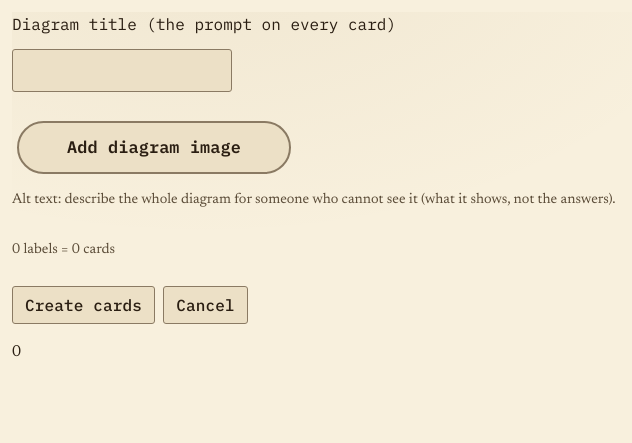
Scenario: DiagramEditor › creates a new diagram from scratch only once it has a title, an image and a labelled region
Click the button with test id "diagram-save".
click(84, 305)  # box top-left (12, 286), bottom-right (155, 324)
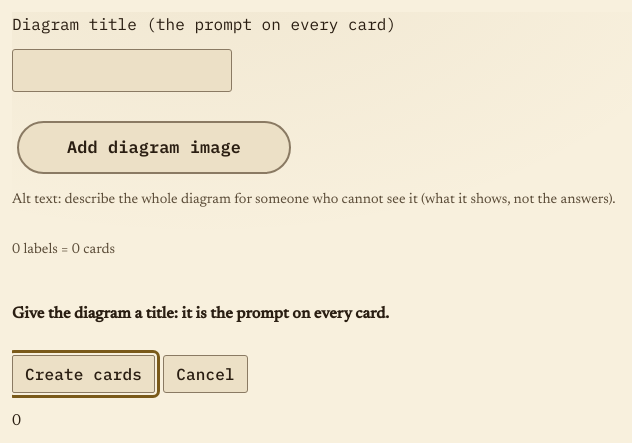
Result: the message shows "title" at top-left (12, 306), bottom-right (389, 322)
Type "Skull" into the field labelled "Diagram title (the prompt on every card)".
click(122, 70); type("Skull")  # box top-left (12, 49), bottom-right (232, 92)
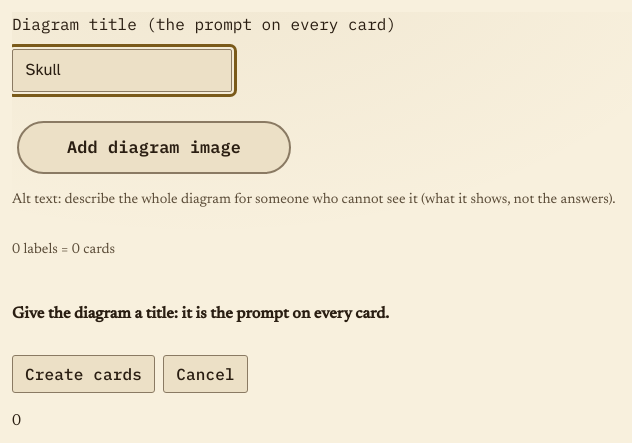
Click the button with test id "diagram-save".
click(84, 374)  # box top-left (12, 355), bottom-right (155, 393)
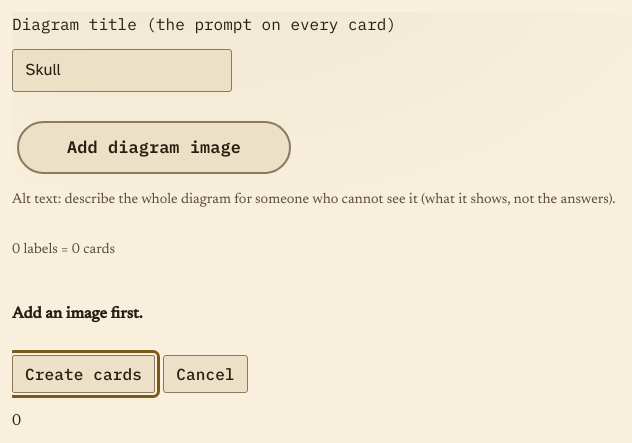
Result: the message shows "image" at top-left (12, 306), bottom-right (143, 322)
